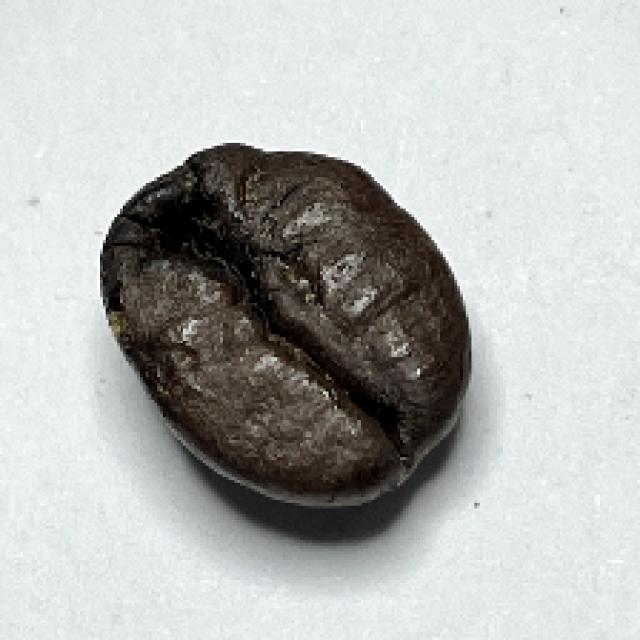bean: (91, 137, 474, 509)
